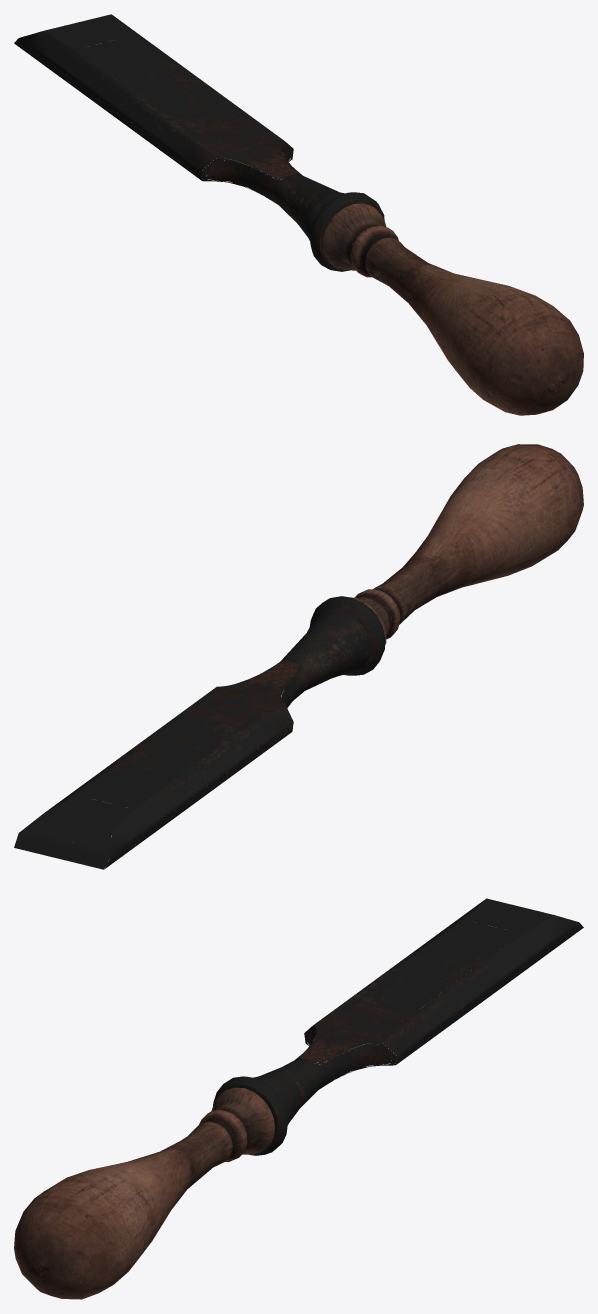
The model's file is chisel.glb.
3 views of the same model, one above another, from view 1: azimuth 30°, elevation 25°; view 2: azimuth 150°, elevation 25°; view 3: azimuth 330°, elevation 25° (orthographic).
Visible parts, largest first — view 1: Object_2; view 2: Object_2; view 3: Object_2.
Part boxes in pixels (left/top/right/bottom): Object_2: left=14, top=14, right=583, bottom=415; Object_2: left=14, top=444, right=583, bottom=869; Object_2: left=14, top=898, right=583, bottom=1299.
Size of the model in its own units: 3.77 by 3.79 by 32.33.
Materials: 1 (1 with a texture image).
